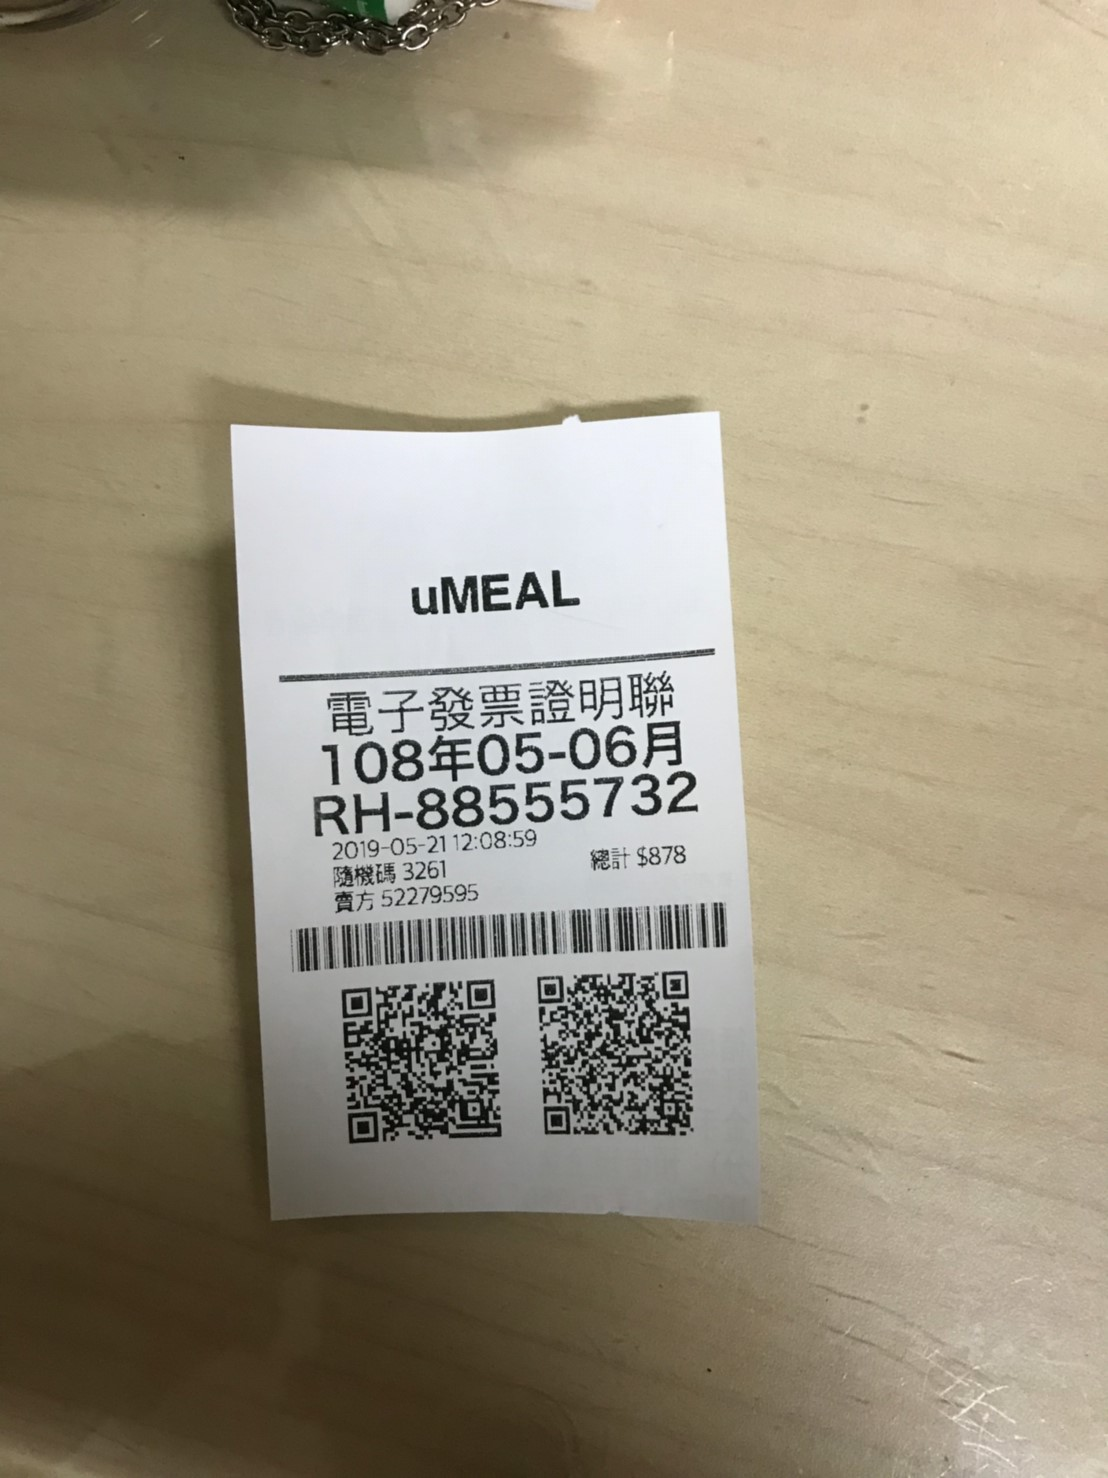Date_New: (318, 719, 684, 783)
Number_New: (411, 770, 701, 829)
